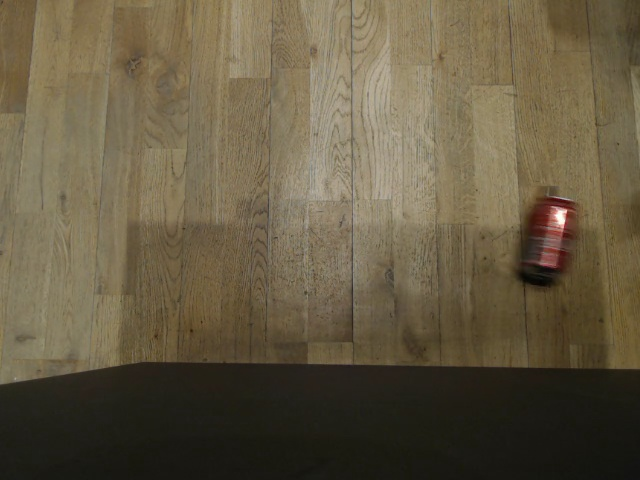coke: (516, 193, 578, 285)
